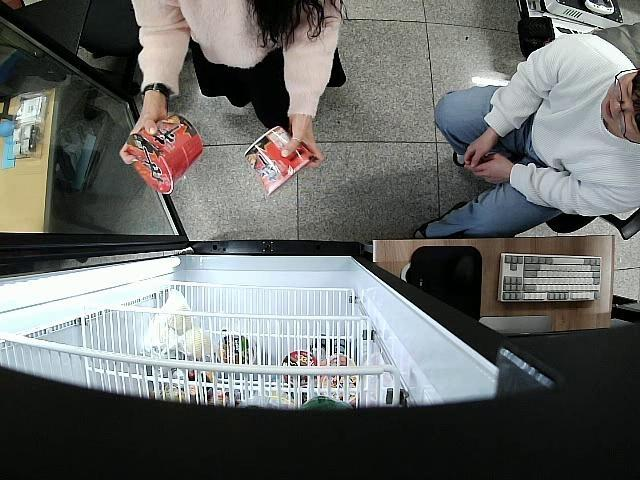01_ShinRamen_L: (125, 114, 204, 195), (244, 125, 314, 195)
